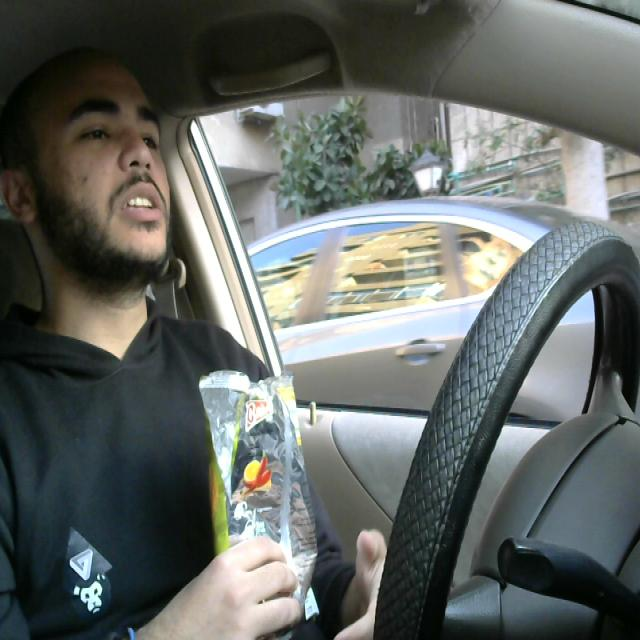eating: (195, 366, 321, 640)
